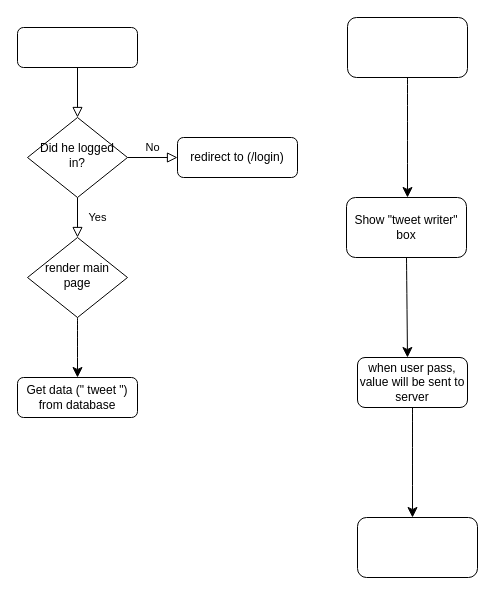
Some shapes in this 495 by 595 pixel diagram are drawn without their labels. Here are the shapes that lost their labels. From the top down, the box of each, then its label:
(16, 26, 138, 68): Go to main page (/)
(346, 16, 468, 78): When user clicked button to start make new "tweet"
(356, 516, 478, 578): Server check and save to database. redirect user to (/)
